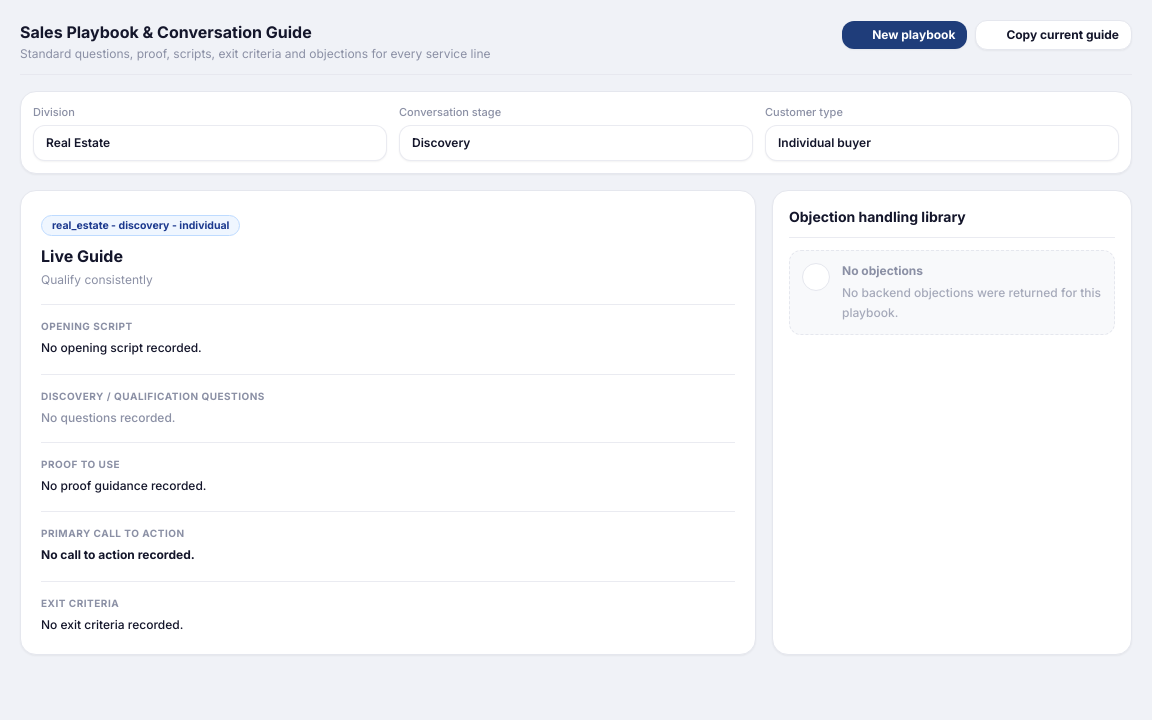
Scenario: PlaybooksPage › retains the last successful guide when a filter refresh fails
Expected: the heading "Live Guide" is shown, top-left (41, 246), bottom-right (123, 266)
Click the button "Real Estate" at {"x": 78, "y": 142}, box top-left (33, 124), bottom-right (387, 160)
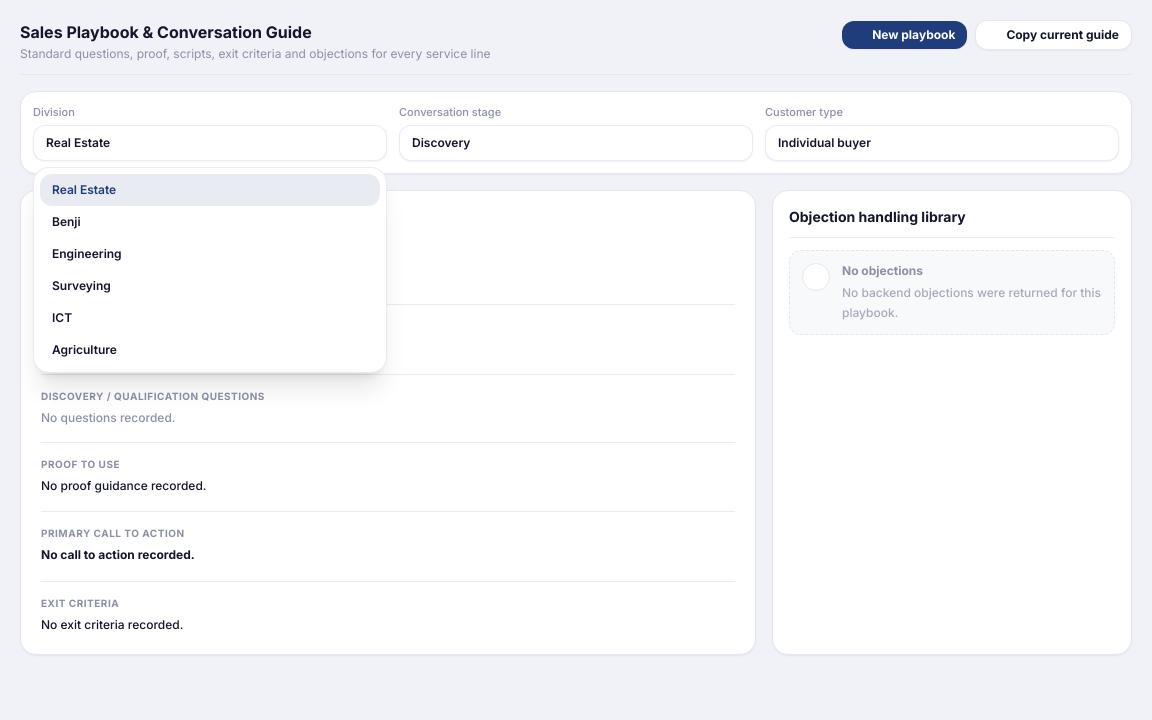
Click the button "Benji" at {"x": 66, "y": 221}, box top-left (40, 206), bottom-right (380, 238)
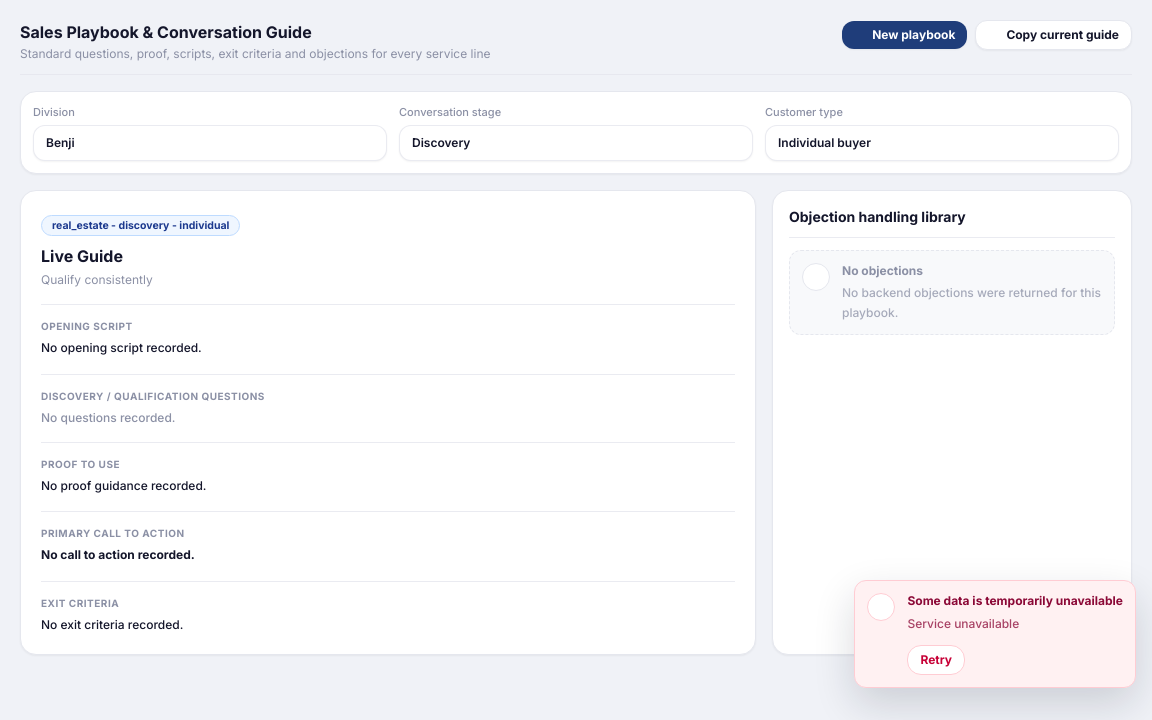
Expected: the heading "Live Guide" is shown, top-left (41, 246), bottom-right (123, 266)
Now the text "Service unavailable" is shown, box top-left (907, 616), bottom-right (1019, 630)
